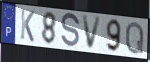8: (41, 10, 58, 46)
9: (105, 19, 123, 54)
K: (20, 9, 36, 44)
Q: (124, 20, 145, 56)
S: (60, 12, 81, 50)
V: (81, 15, 103, 51)
